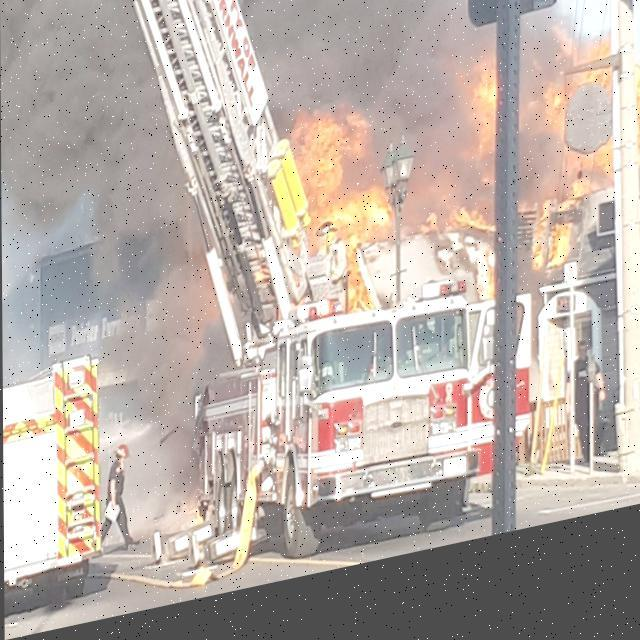Fire: (268, 42, 632, 336)
